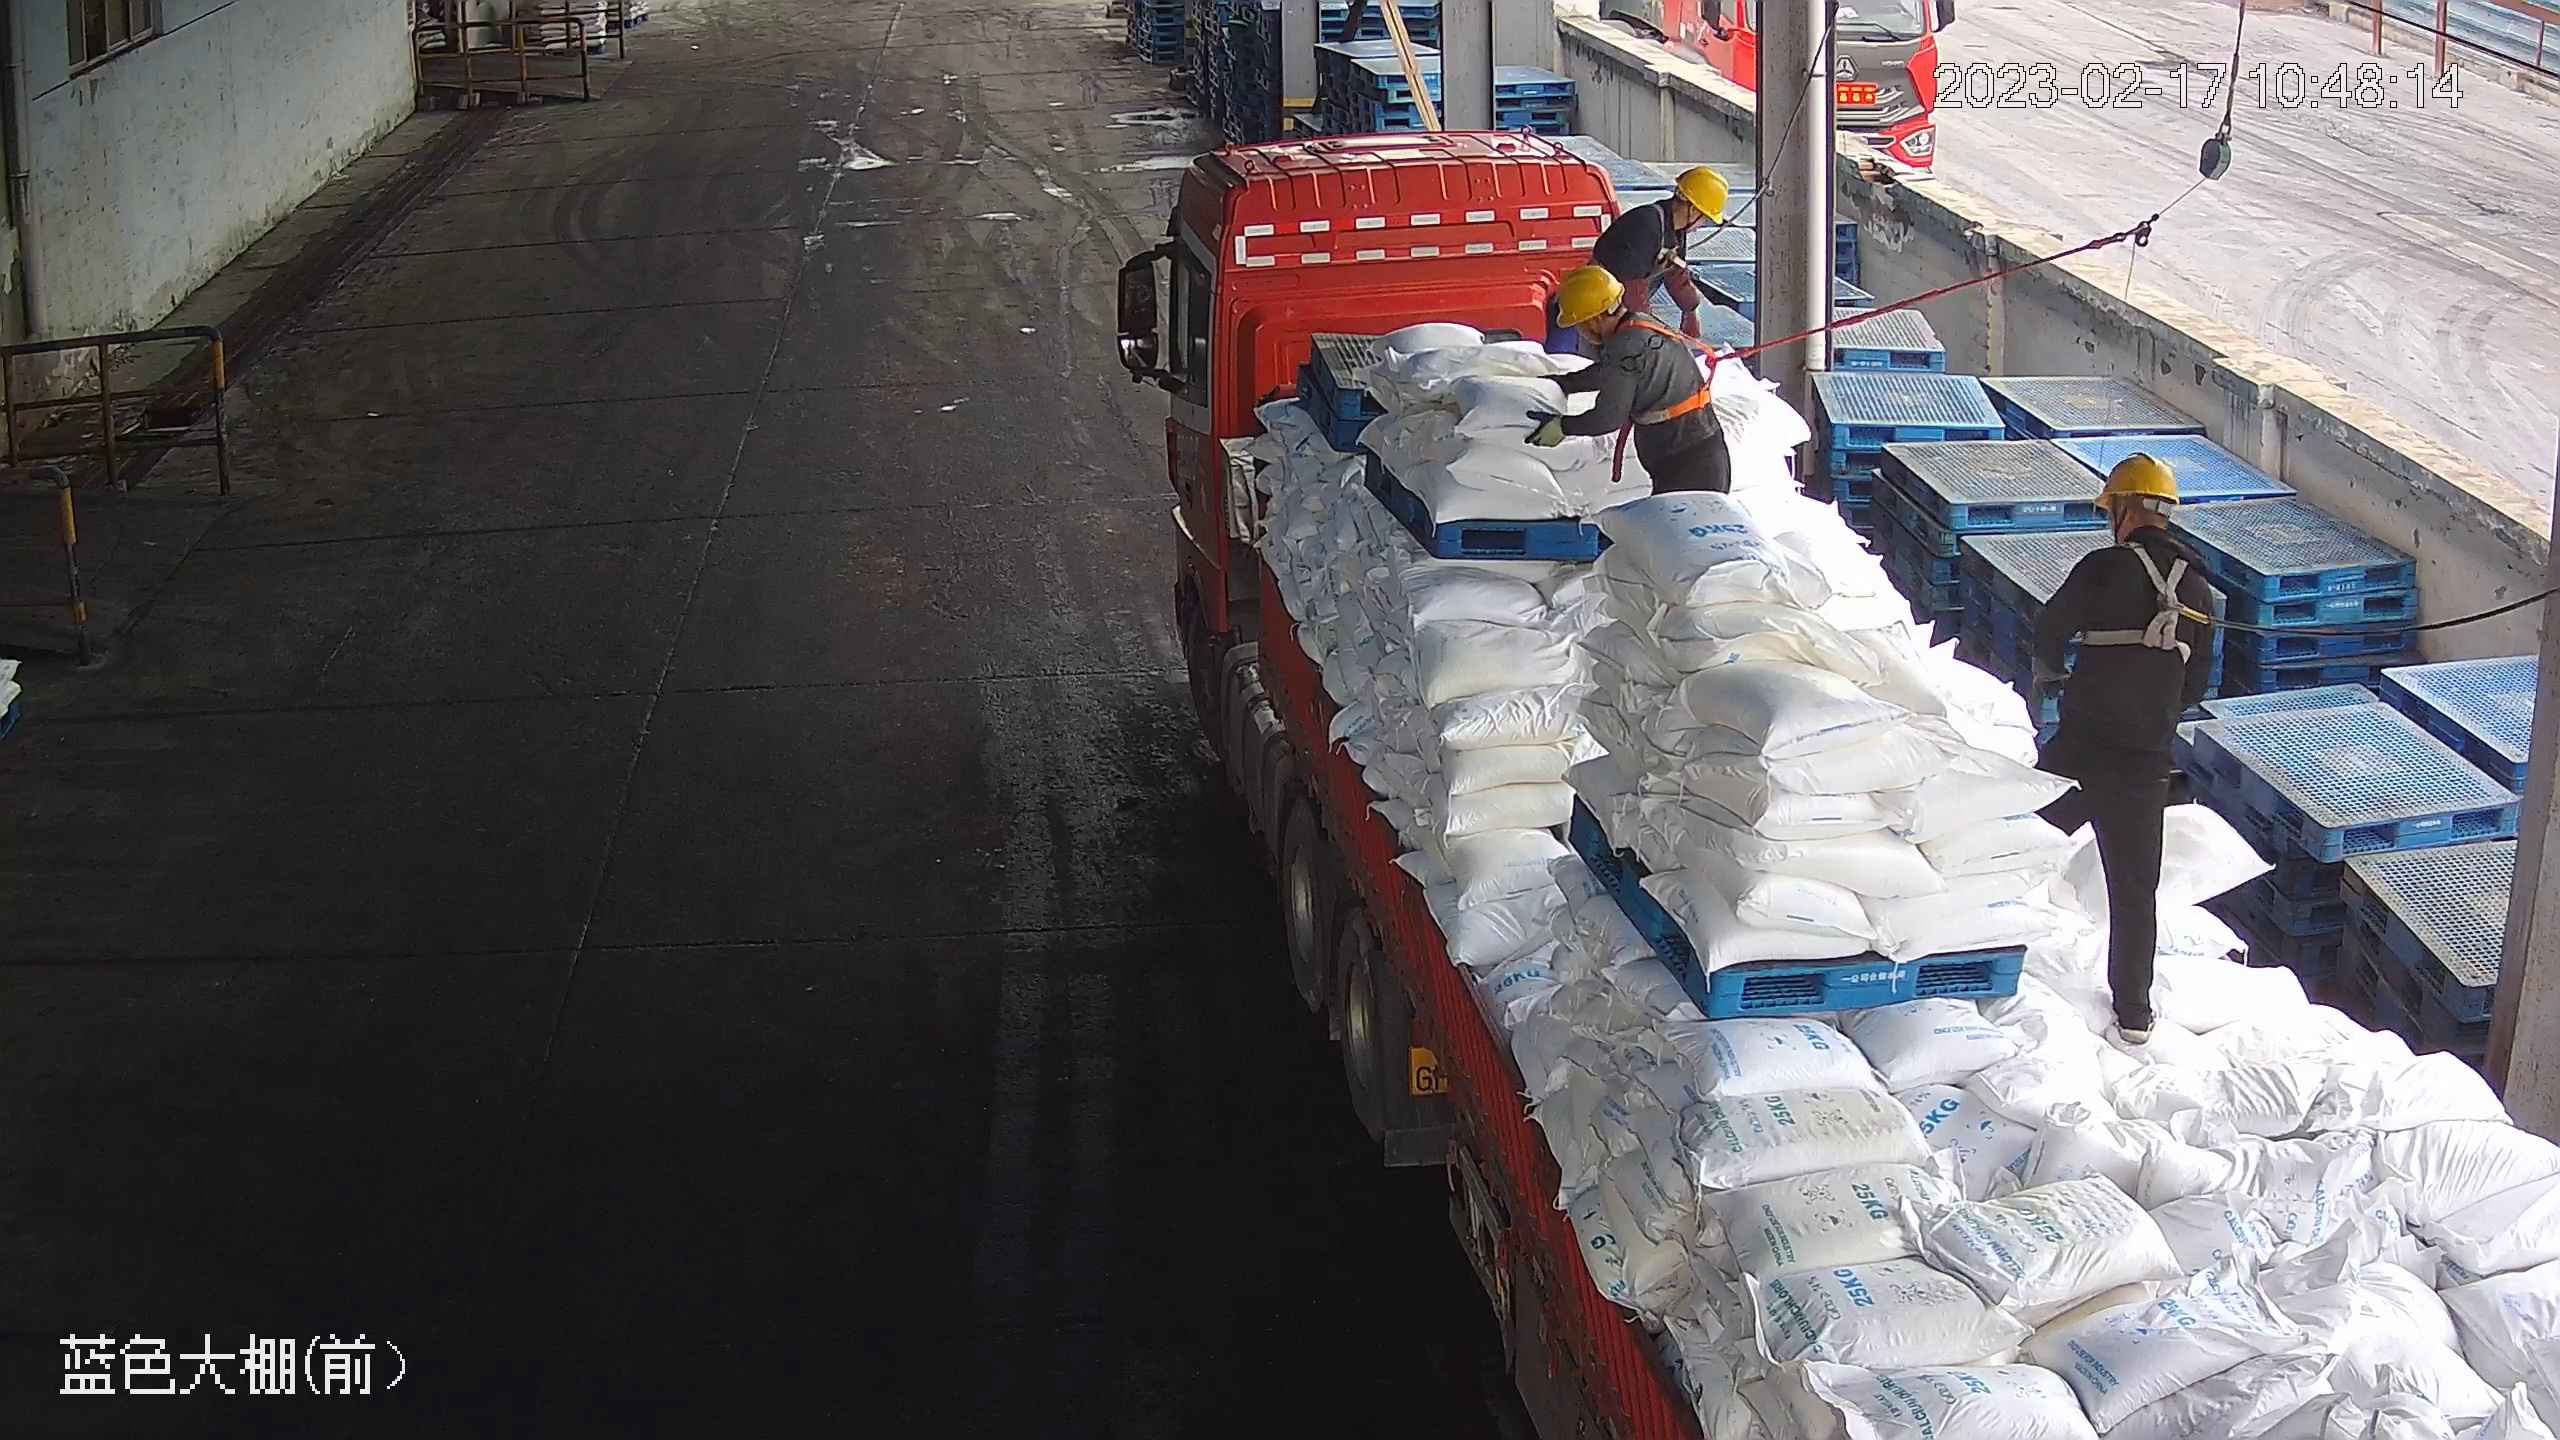belt: (2075, 536, 2217, 660), (1615, 311, 1736, 426), (1632, 197, 1711, 271)
head: (2058, 451, 2218, 608), (1553, 263, 1692, 368), (1603, 165, 1728, 249)
helmet: (2093, 450, 2181, 516), (1554, 262, 1625, 327), (1673, 164, 1729, 225)
people: (2019, 453, 2222, 1040), (1524, 262, 1737, 507)
truck: (1109, 134, 2558, 1435)
